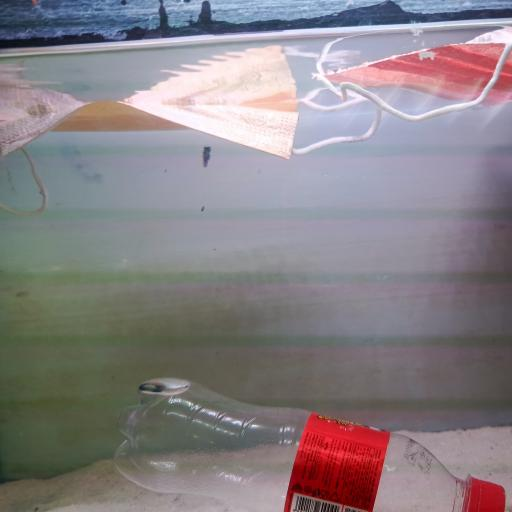bottle_cap: (466, 473, 512, 512)
mask: (2, 54, 385, 173), (318, 40, 512, 133)
plastic_bottle: (118, 372, 512, 512)
